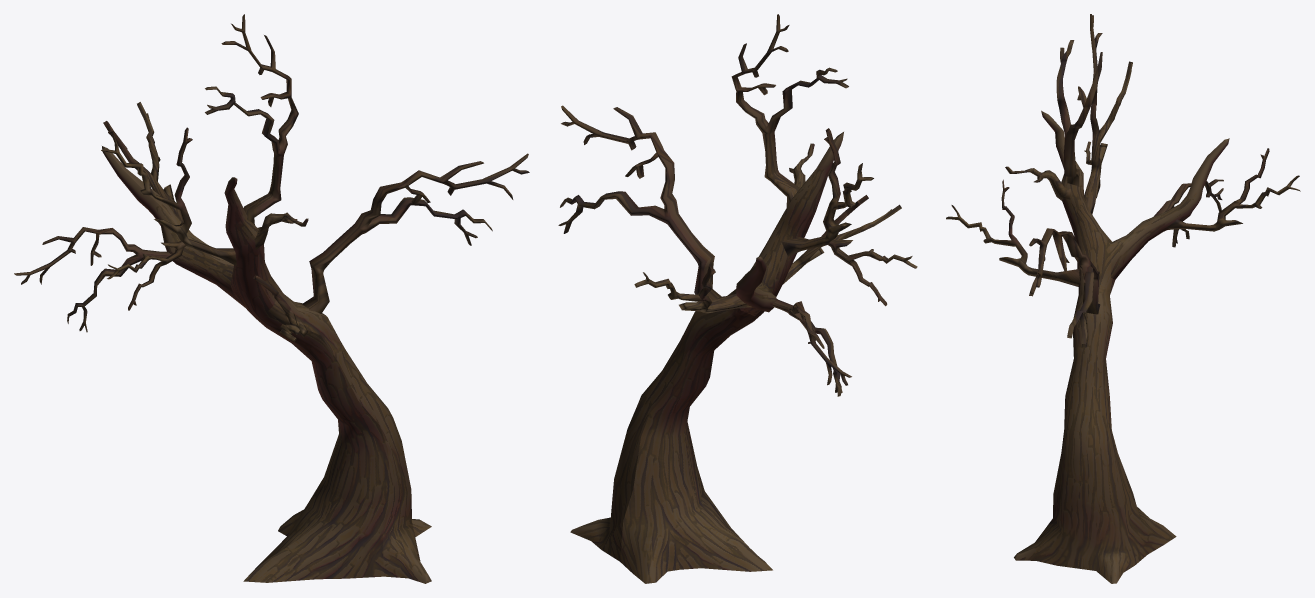
Rendered from cem_prop_tree_02.fbx.
3 views of the same model, side by side, from view 1: azimuth 30°, elevation 25°; view 2: azimuth 150°, elevation 25°; view 3: azimuth 270°, elevation 25° (orthographic). The views are drawn at different scales.
Parts seen in each view (by area): view 1: cem_prop_tree_02; view 2: cem_prop_tree_02; view 3: cem_prop_tree_02.
Part boxes in pixels (box(x1,y1,x2,y2)): cem_prop_tree_02: box(14, 14, 529, 583); cem_prop_tree_02: box(558, 14, 917, 583); cem_prop_tree_02: box(946, 14, 1300, 583).
Bounding box in the file's own units: 408 × 546 × 361.
Materials: 1 (1 with a texture image).
